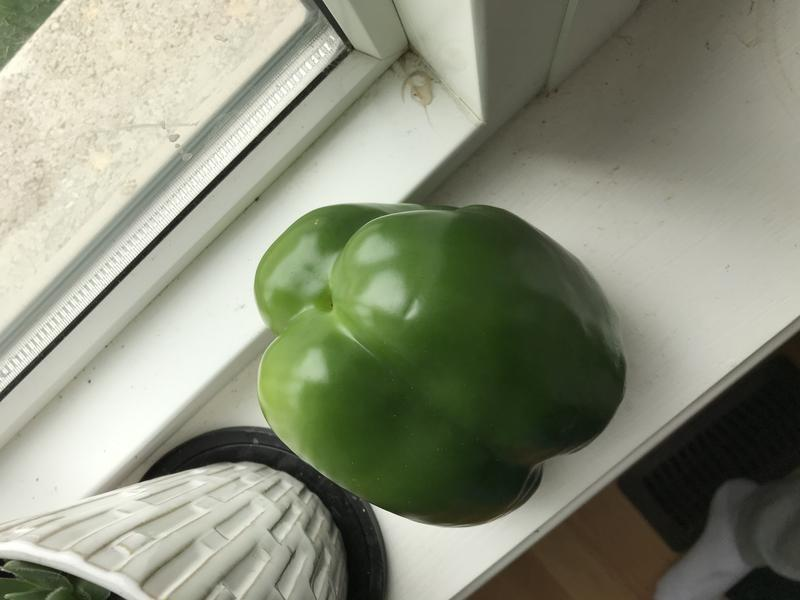green_pepper: (232, 188, 642, 536)
